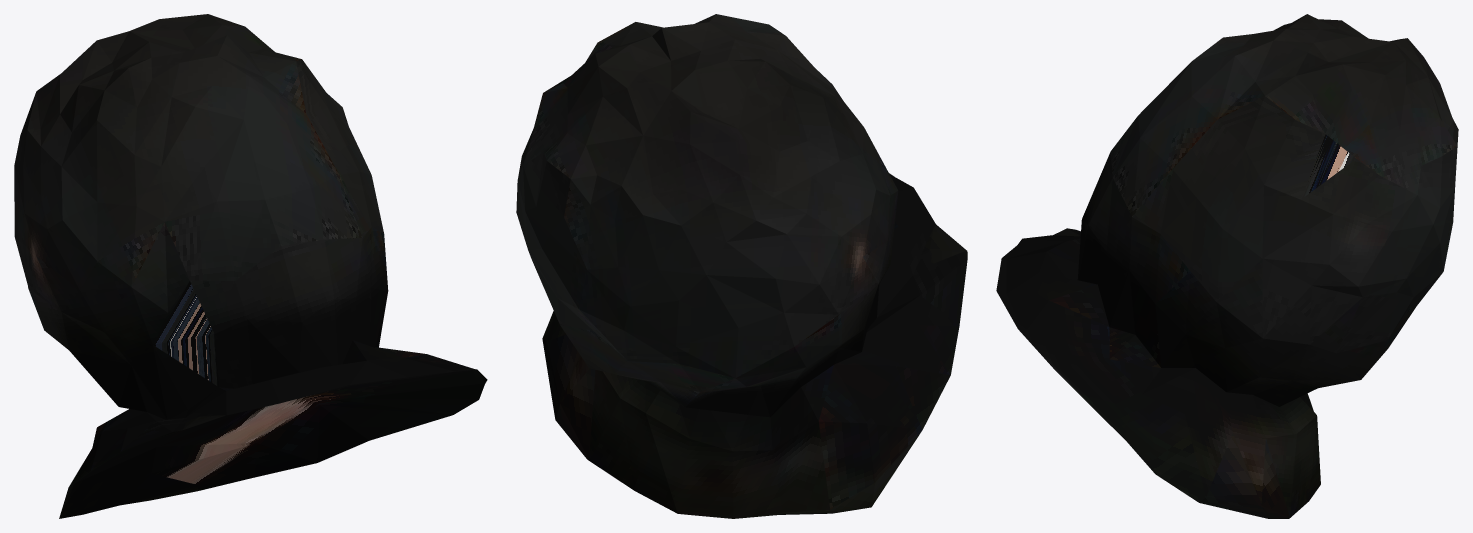
The model's file is ewm_t2swordfighterm_hat.glb.
3 renders of one model, left to right at view 1: azimuth 30°, elevation 25°; view 2: azimuth 150°, elevation 25°; view 3: azimuth 270°, elevation 25°, orthographic. The views are drawn at different scales.
Parts seen in each view (by area): view 1: ewm_t2swordfighterm_hat; view 2: ewm_t2swordfighterm_hat; view 3: ewm_t2swordfighterm_hat.
Part boxes in pixels (left/top/right/bottom): ewm_t2swordfighterm_hat: left=14, top=14, right=487, bottom=518; ewm_t2swordfighterm_hat: left=516, top=14, right=967, bottom=518; ewm_t2swordfighterm_hat: left=996, top=14, right=1458, bottom=518.
Bounding box in the file's own units: 0.0698 × 0.0799 × 0.0756.
Materials: 1 (1 with a texture image).
